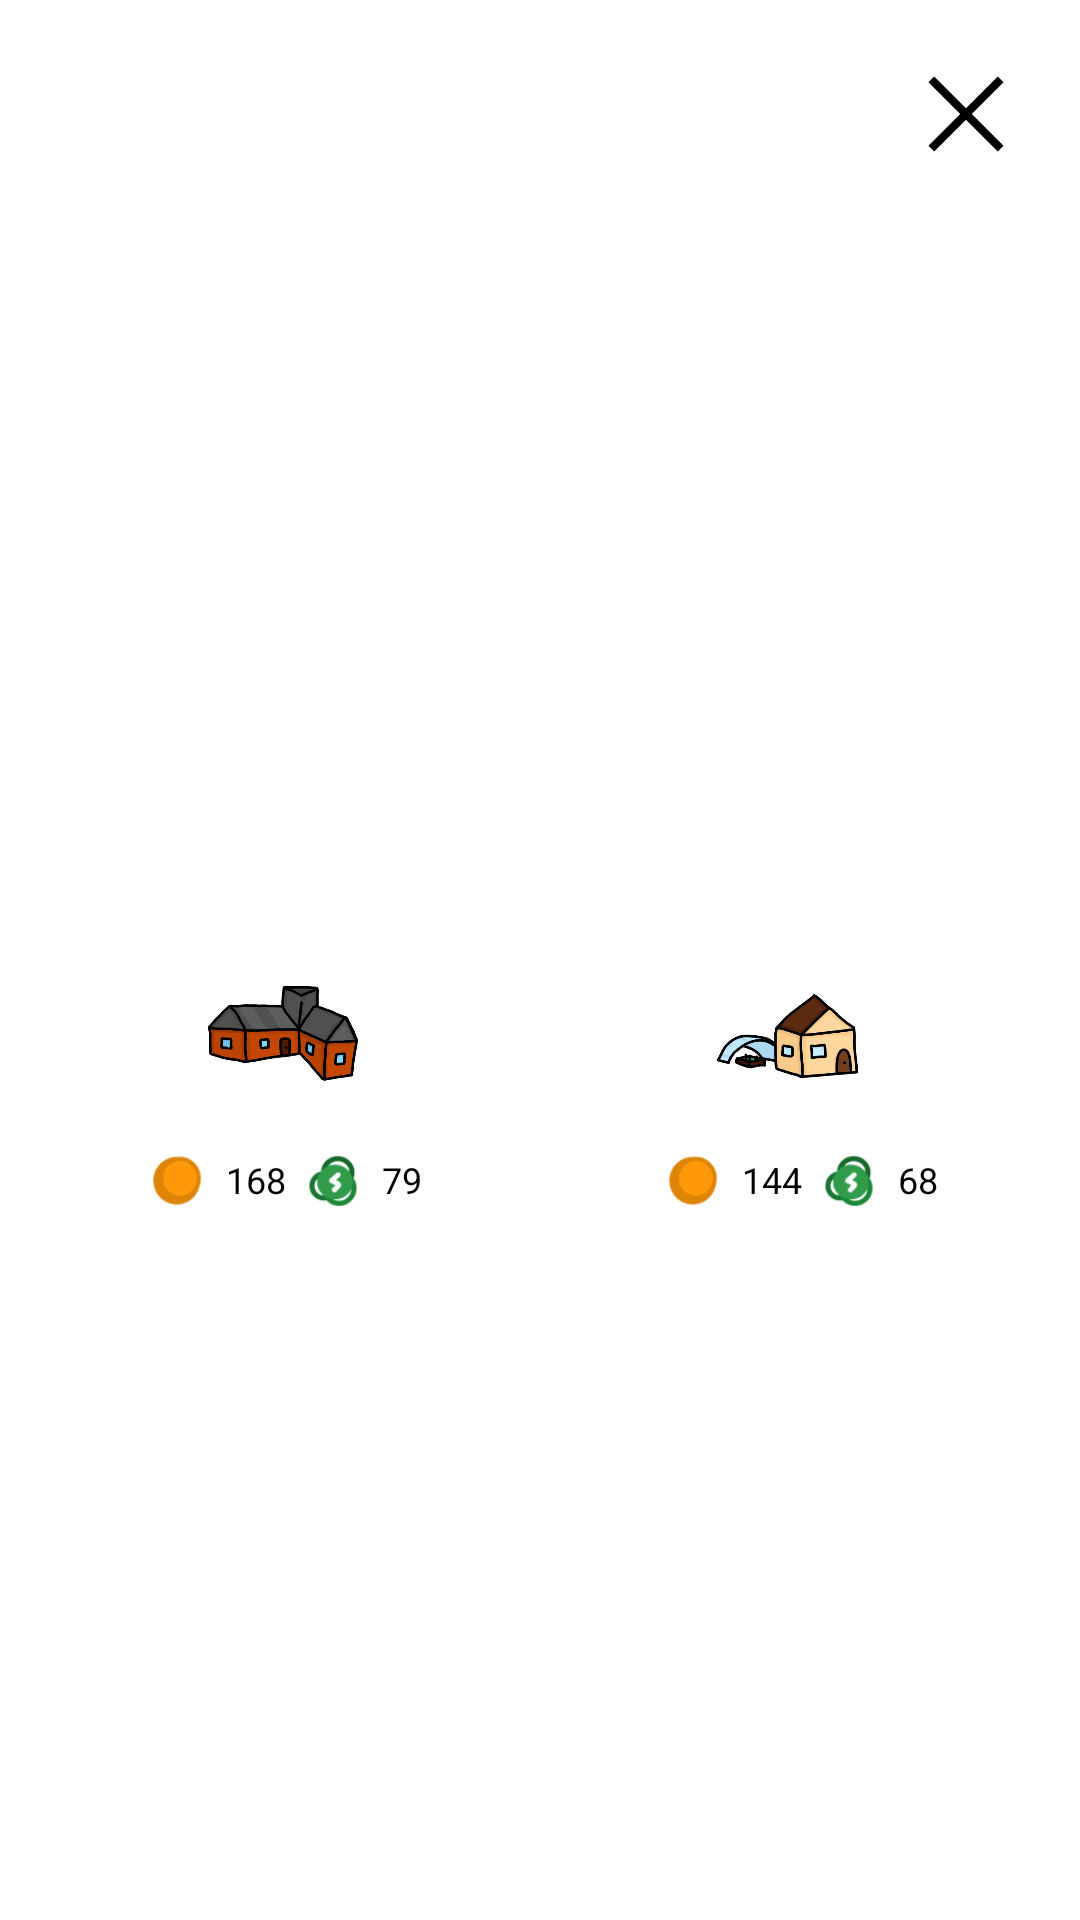

Icon click points for this 1080w x 1920h phone screenshot, format (x=x, y=y):
magicworld close: (x=966, y=114)
magicworld coin: (x=177, y=1180), (x=693, y=1180)
magicworld house garden: (x=787, y=1036)
magicworld house workshop: (x=283, y=1033)
